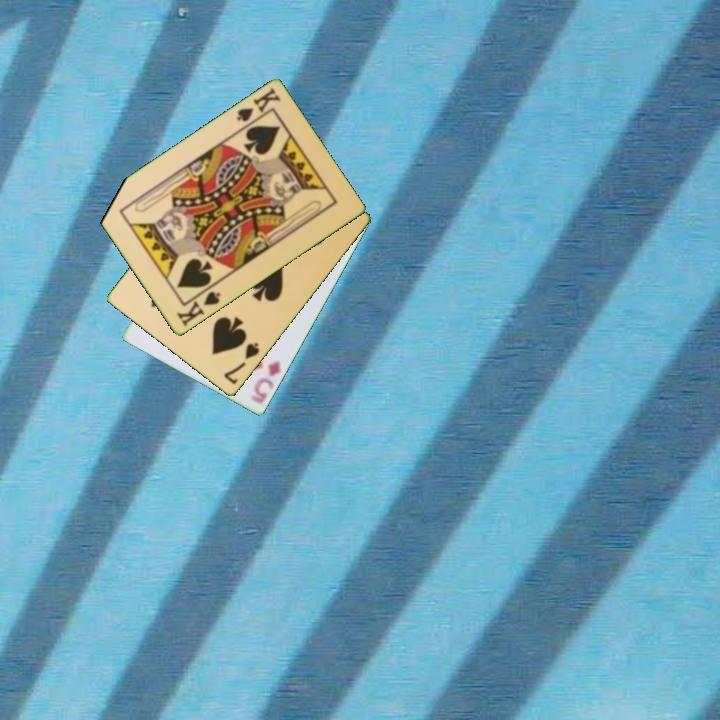5d: (247, 357, 284, 407)
7s: (220, 339, 263, 388)
Ks: (173, 282, 223, 330), (233, 84, 283, 132)
